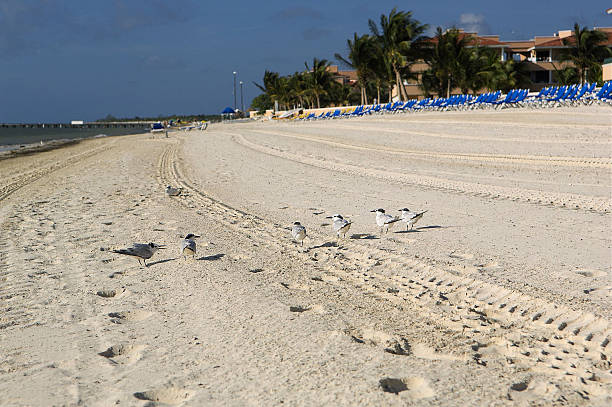vehicle_track: (159, 144, 611, 396), (225, 132, 610, 212), (252, 129, 611, 169), (0, 144, 108, 200), (372, 123, 611, 144)
